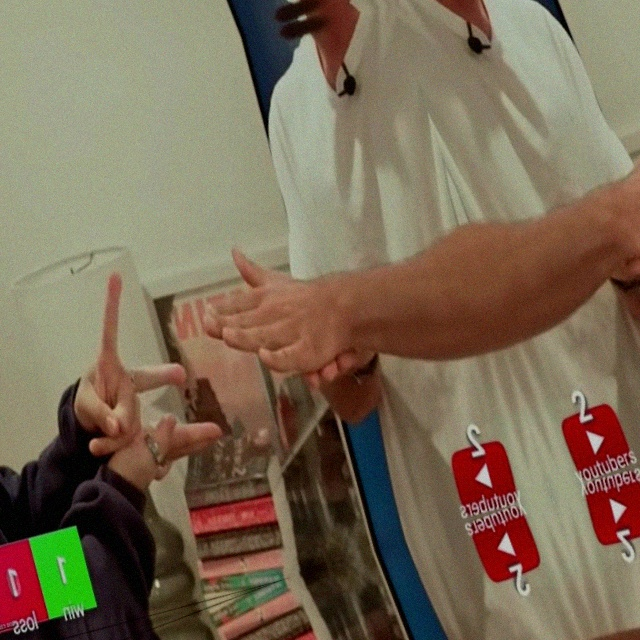Paper: (36, 255, 210, 468)
Scissors: (567, 82, 640, 272)
